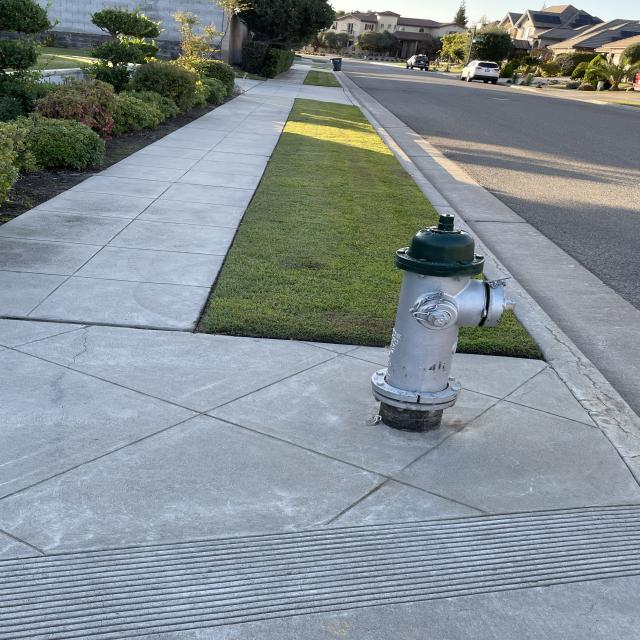curb: (523, 340, 638, 459), (358, 104, 447, 198), (343, 76, 380, 120)
road: (495, 124, 637, 277), (415, 104, 635, 158), (362, 64, 493, 106)
walkway: (2, 322, 188, 457), (23, 218, 191, 322), (74, 186, 235, 242), (138, 153, 255, 207), (182, 126, 270, 168), (241, 83, 286, 132)
walkway-edge: (200, 101, 282, 343), (193, 315, 389, 361)
